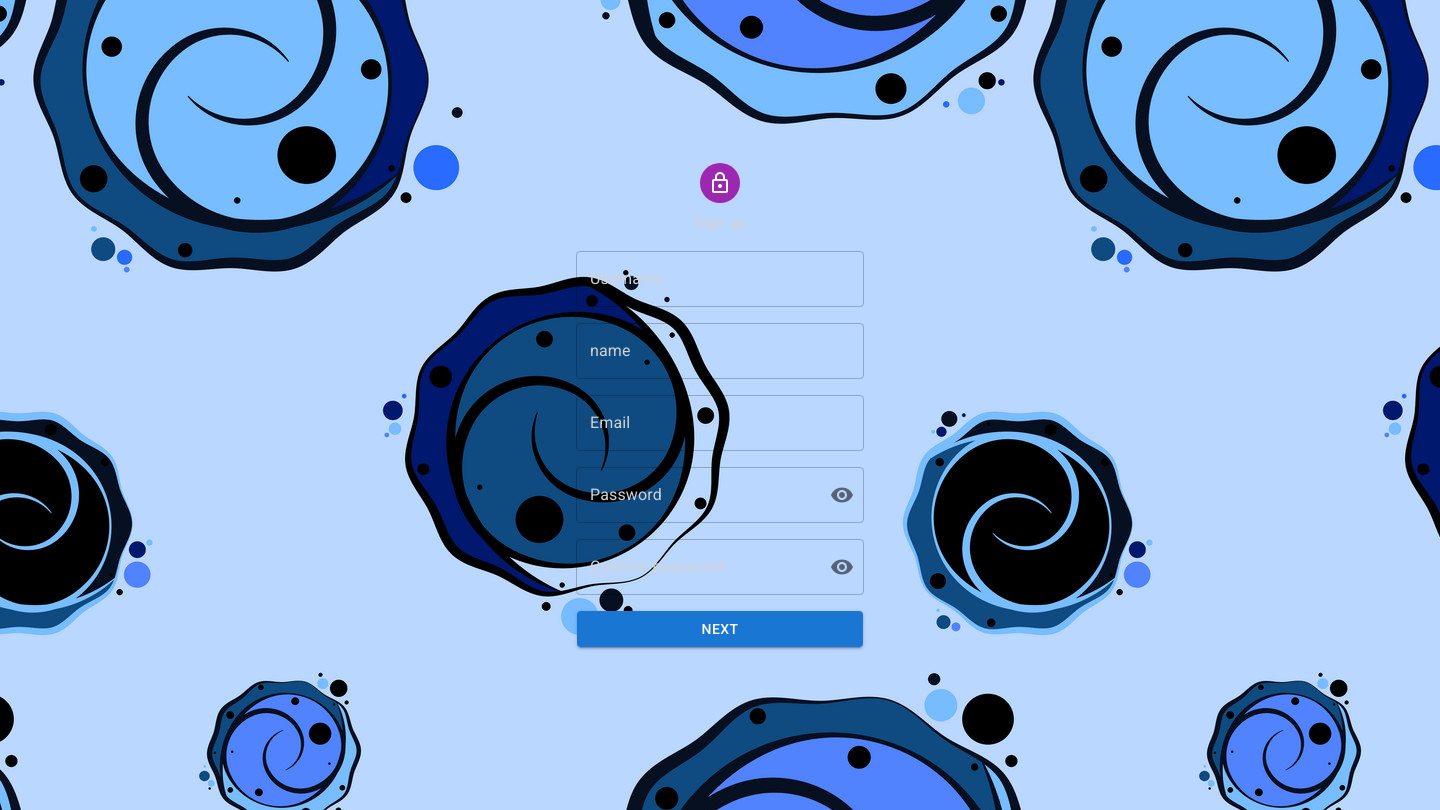
Scenario: SignUp Component › displays error when passwords do not match
In the password field with id "outlined-adornment-password-signup": (695, 495) [576,467,814,523], type "password1"
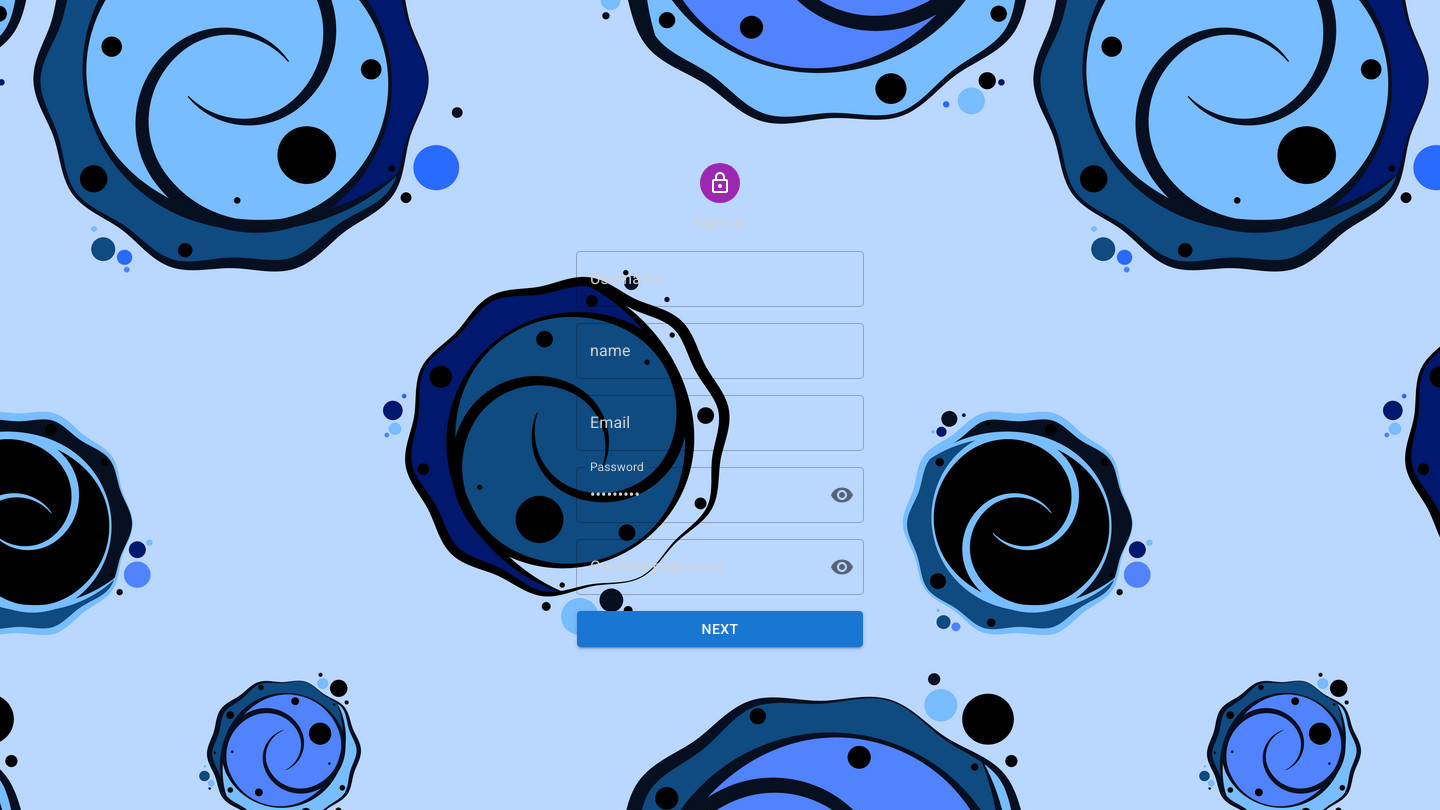
In the password field with id "outlined-adornment-retypepassword-signup": (695, 567) [576,539,814,595], type "password2"
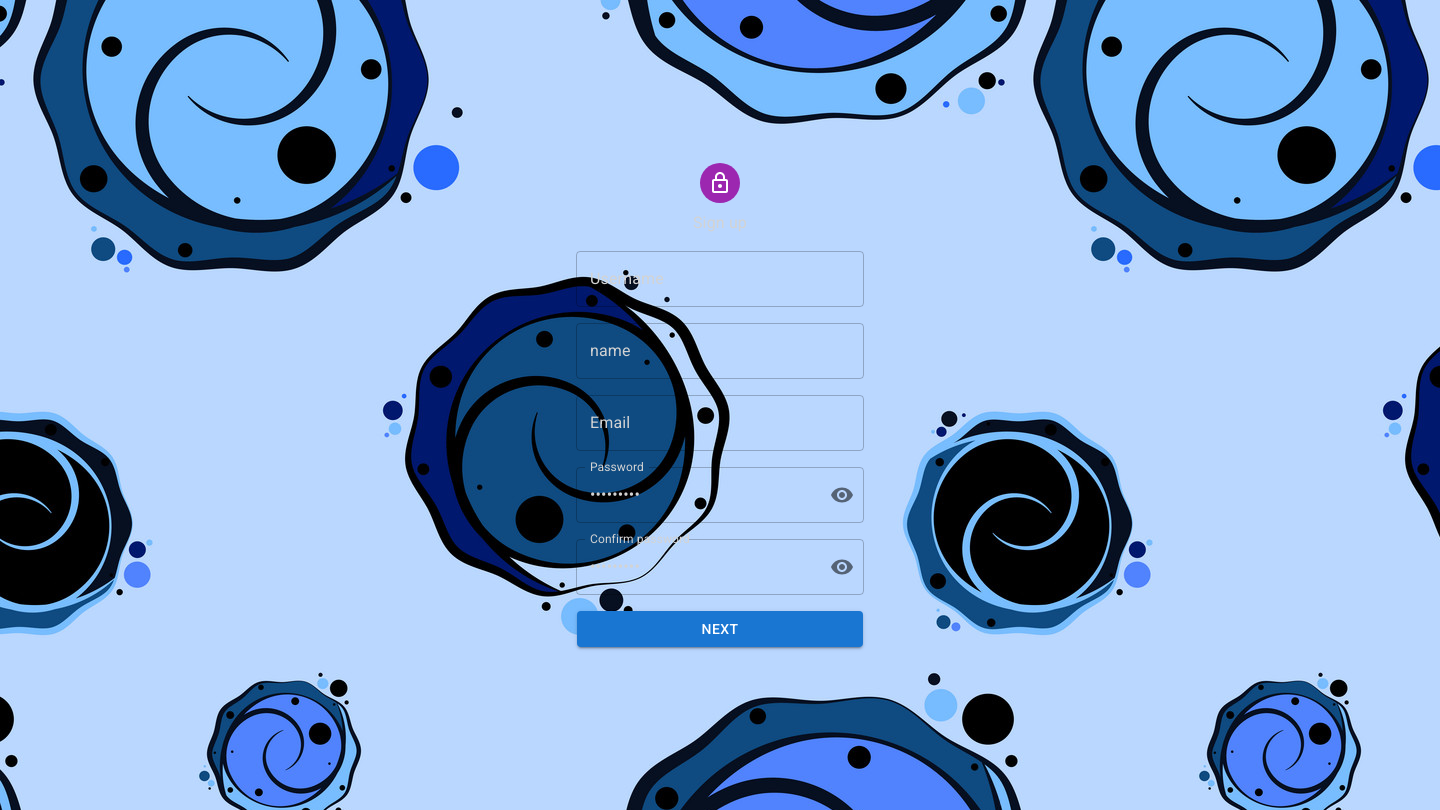
Click the button "Next": click(720, 629) [577,611,863,647]
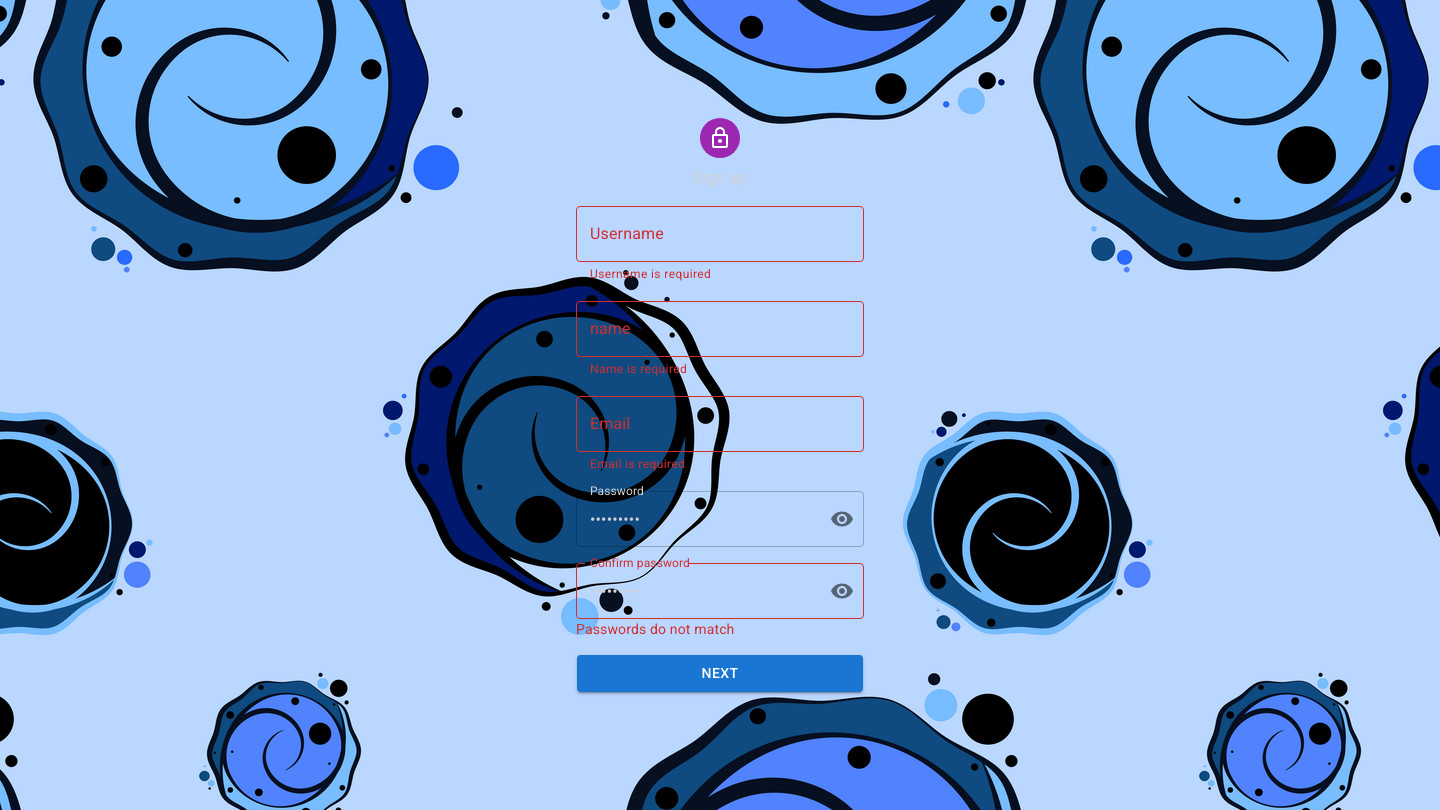
Now the text "Passwords do not match" is shown, box [576,621,734,637]
